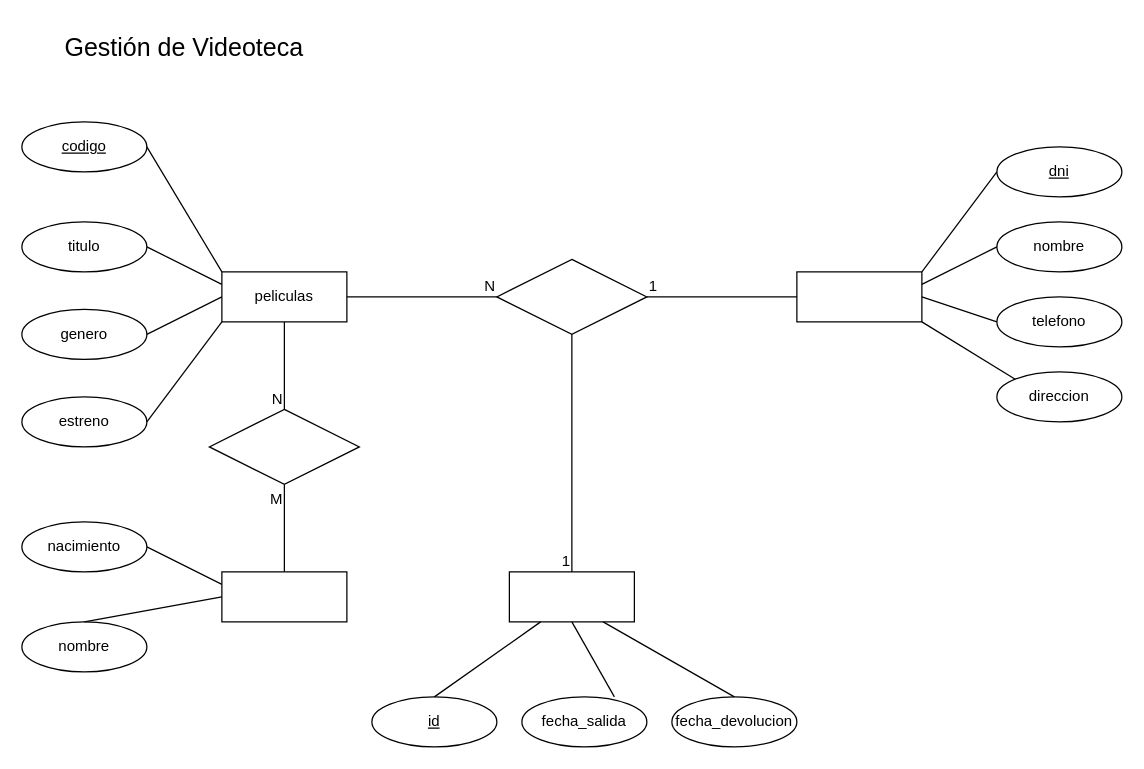
Image size: 1144x769. Some labels were removed from this diagram. The shapes that lost their labels are listed below. From the top down, each one's box as (x1, y1, x2, y2) in pixels, then its label:
(496, 258, 647, 334): alquilar
(796, 271, 922, 322): socios
(208, 408, 359, 484): participar
(221, 571, 347, 622): actores
(508, 571, 634, 622): alquileres
